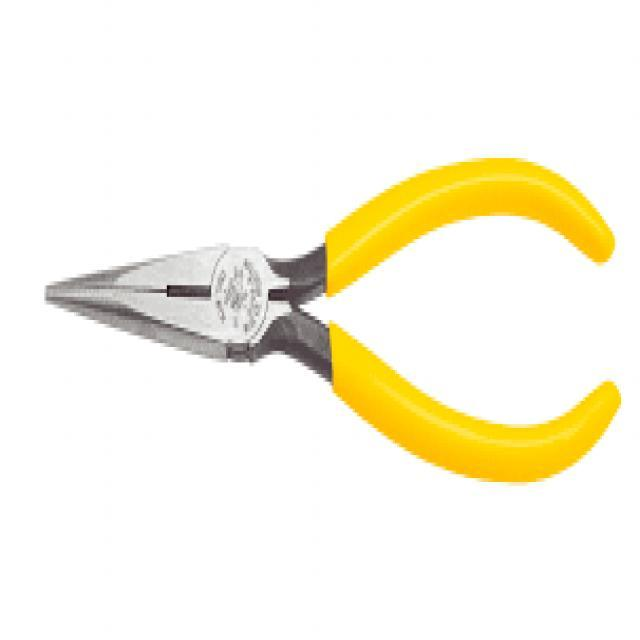pliers: (33, 138, 628, 494)
